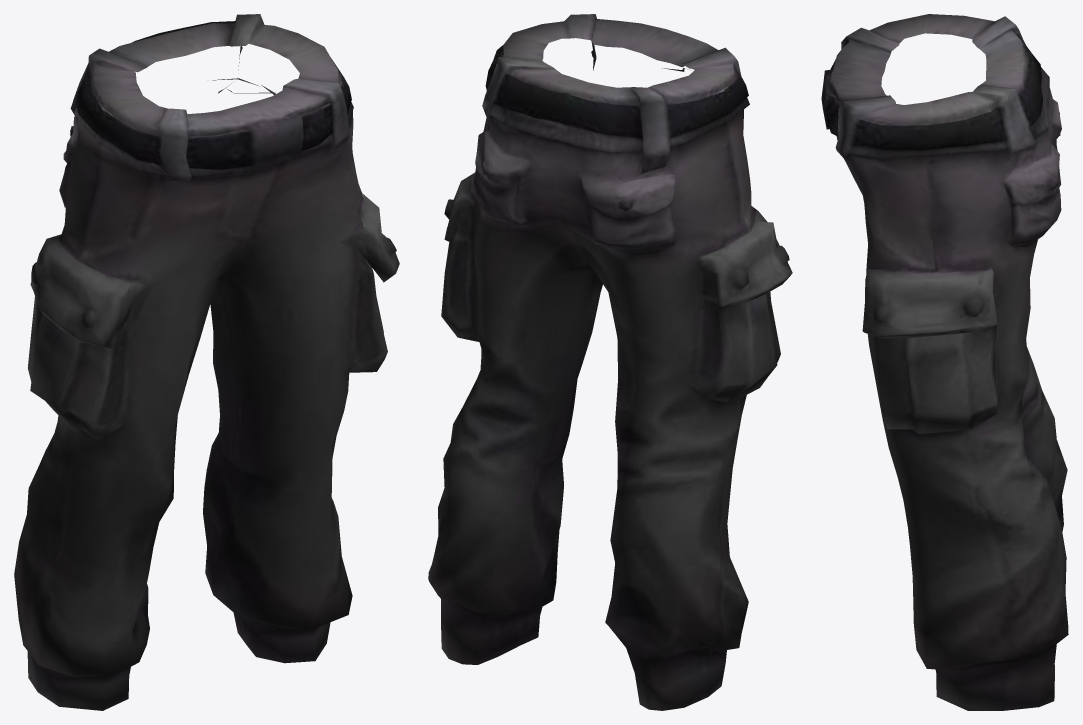
File: leg3.glb
3 views of the same model, side by side, from view 1: azimuth 30°, elevation 25°; view 2: azimuth 150°, elevation 25°; view 3: azimuth 270°, elevation 25° (orthographic). The views are drawn at different scales.
Visible parts, largest first — view 1: Wolf3D_Outfit_Bottom; view 2: Wolf3D_Outfit_Bottom; view 3: Wolf3D_Outfit_Bottom.
Boxes of the visible parts, x1=… form: Wolf3D_Outfit_Bottom: x1=14, y1=14, x2=399, y2=710; Wolf3D_Outfit_Bottom: x1=428, y1=14, x2=792, y2=710; Wolf3D_Outfit_Bottom: x1=821, y1=14, x2=1068, y2=710.
Size of the model in its own units: 0.5017 by 0.8982 by 0.3379.
1 material, 1 textured.
